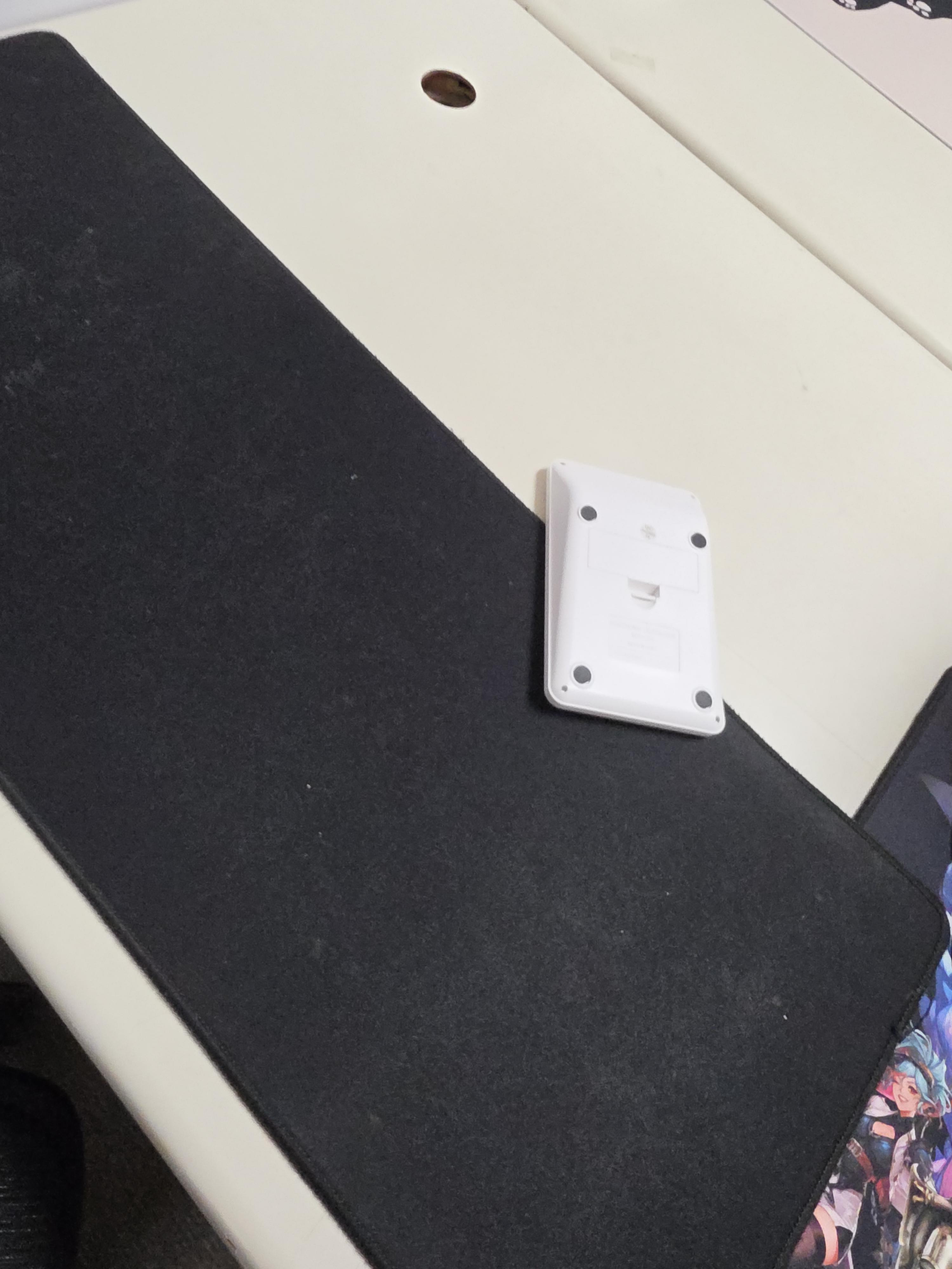calculator: (543, 459, 726, 737)
